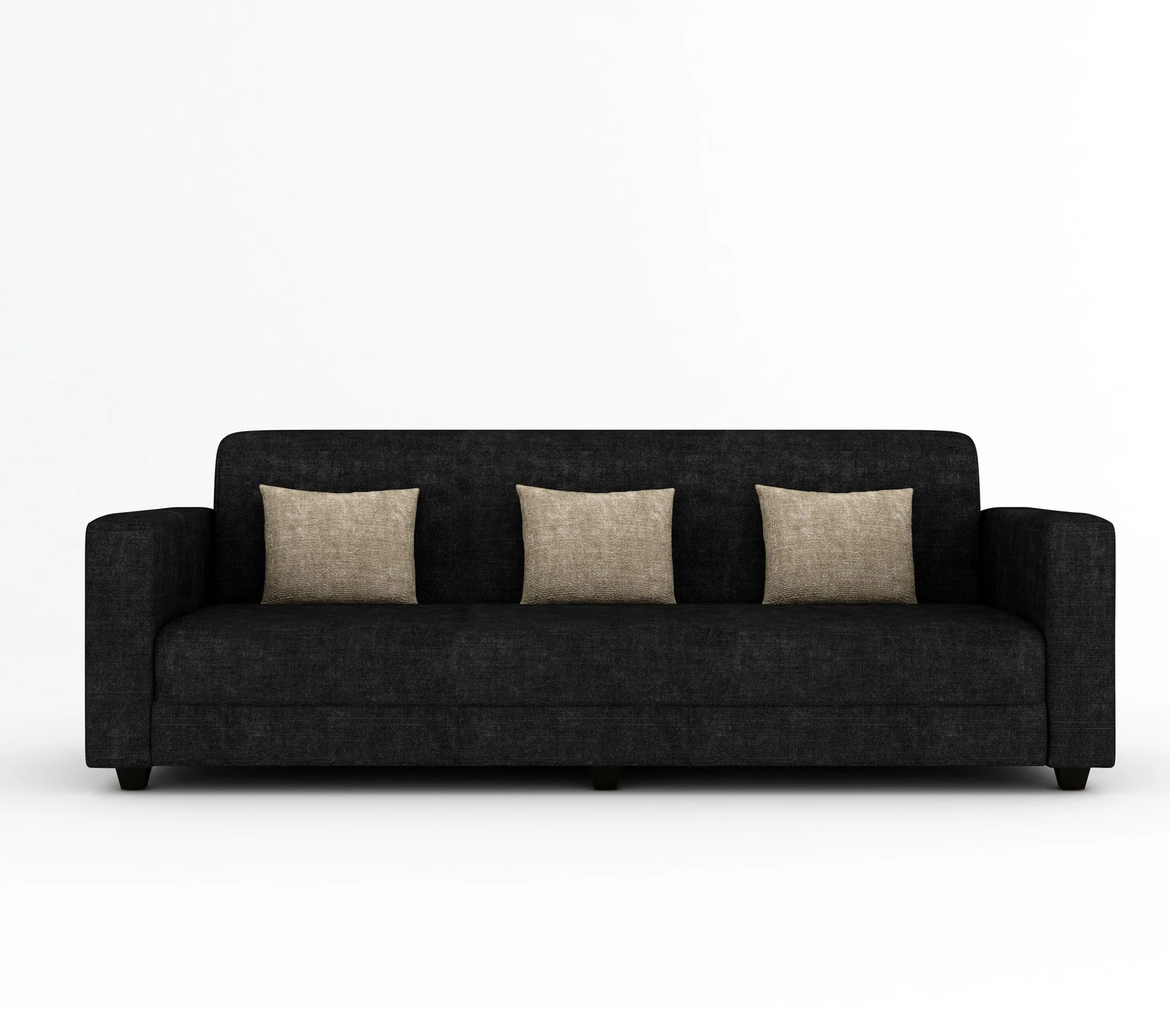3seatersofa: (86, 431, 1114, 787)
backrest: (213, 431, 977, 610), (675, 524, 762, 601), (217, 518, 263, 601)
base: (152, 702, 1044, 766)
leftarmrest: (980, 508, 1114, 767)
leg: (117, 767, 151, 790), (1055, 767, 1089, 790), (591, 767, 619, 790)
pillow: (757, 485, 916, 604), (517, 485, 675, 603), (261, 485, 419, 603)
rightarmrest: (87, 505, 219, 767)
seat: (154, 604, 1044, 706)
